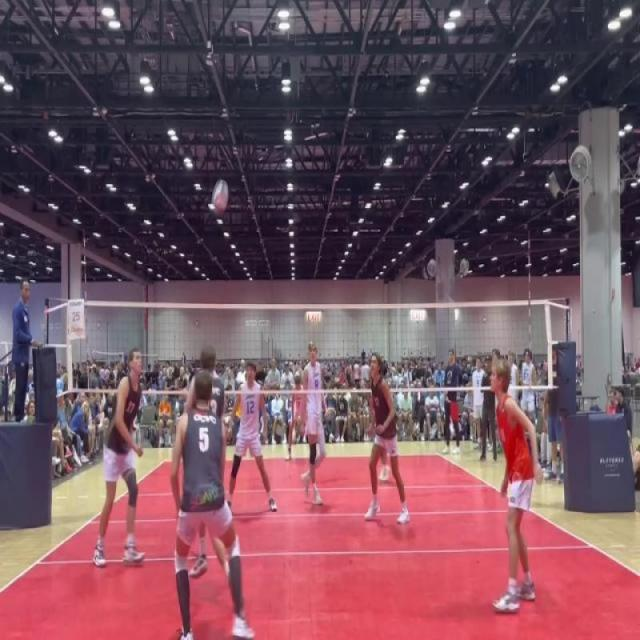volleyball: (211, 176, 231, 216)
